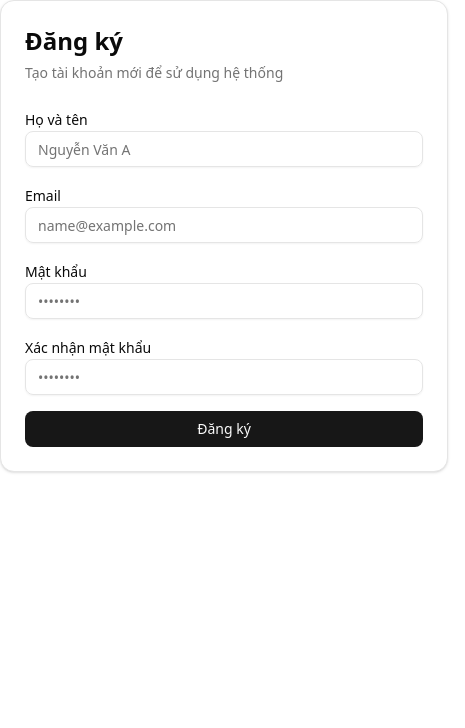
RegisterForm success-state runtime contract › enters the success panel after a 201 service/store contract
Type "Phạm Hùng Thiên" into the field labelled "Họ và tên".
click(224, 149); type("Phạm Hùng Thiên")  # box [25,131,423,167]
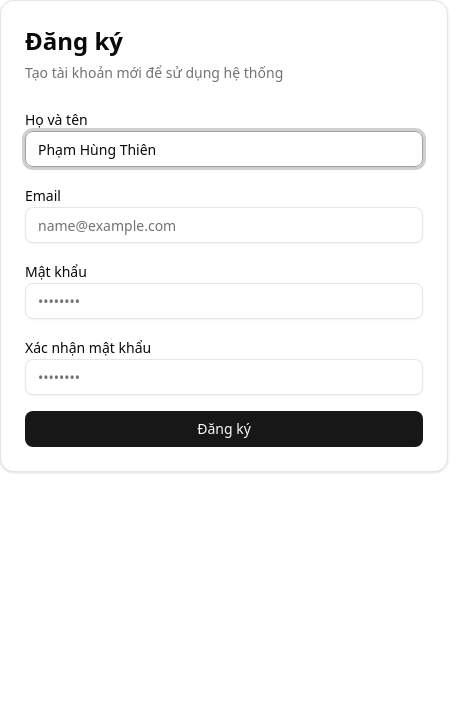
Type "thienhungpham5@gmail.com" into the field labelled "Email".
click(224, 225); type("thienhungpham5@gmail.com")  # box [25,207,423,243]
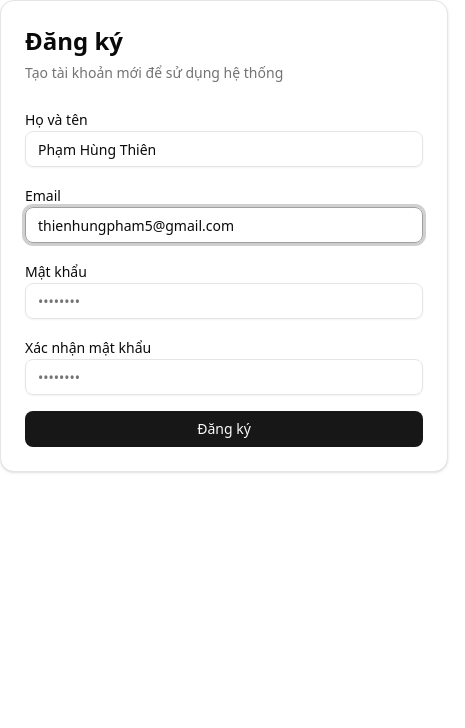
Type "password123" into the password field labelled "Mật khẩu".
click(224, 301); type("password123")  # box [25,283,423,319]
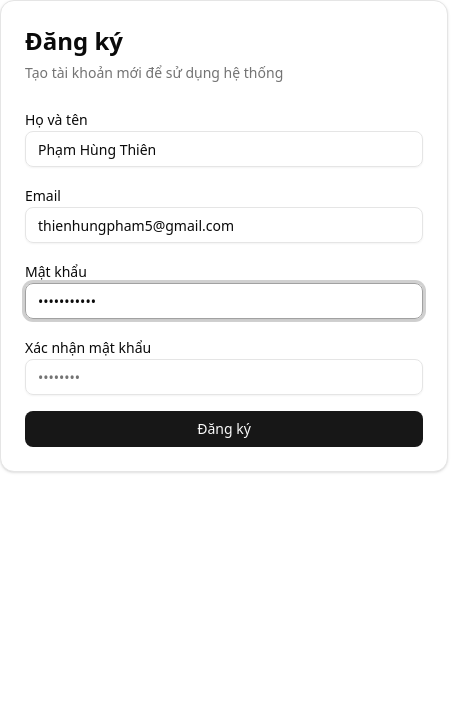
Type "password123" into the password field labelled "Xác nhận mật khẩu".
click(224, 377); type("password123")  # box [25,359,423,395]
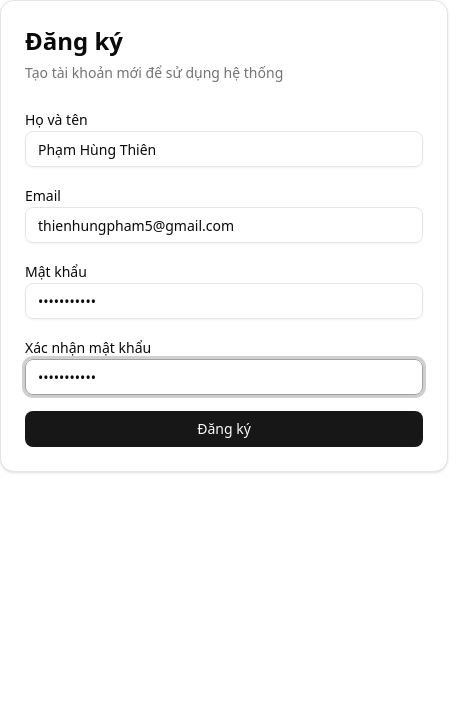
Click the button "Đăng ký".
click(224, 429)  # box [25,411,423,447]
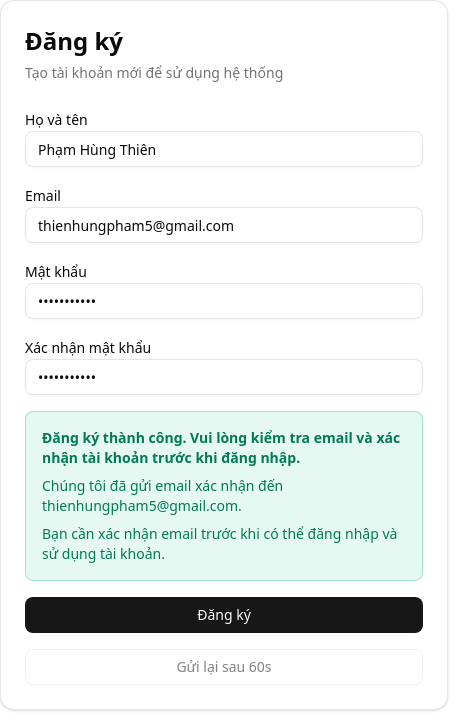
Expected: the button "Đăng ký" is shown, [25,597,423,633]
Now the message with test id "register-success" is shown, box [25,411,423,581]
Now the text "Đăng ký thành công" is shown, box [42,428,400,467]
